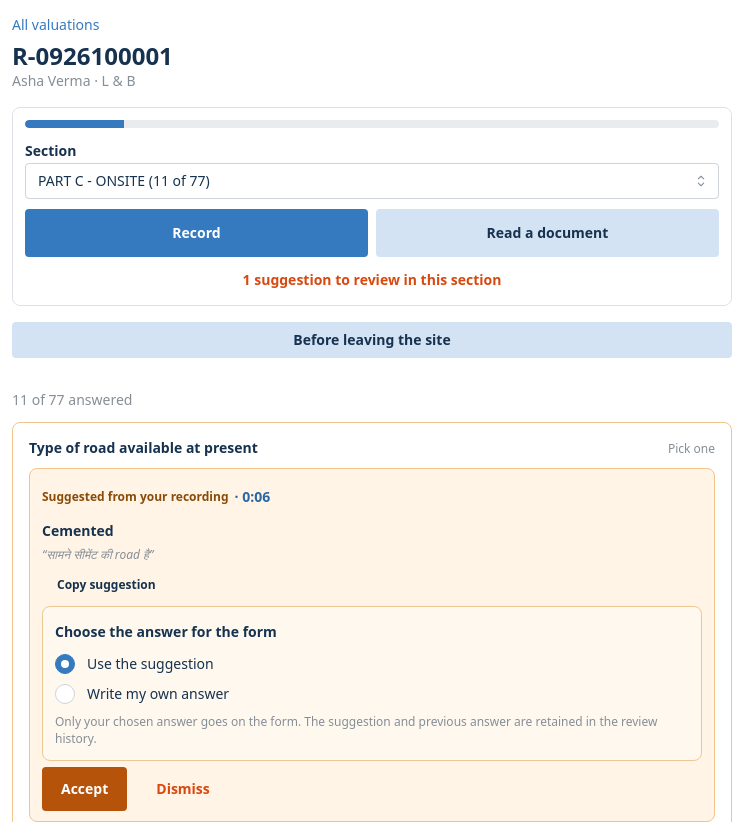
it: the phone form › copies the suggestion without changing the form
The image size is (749, 822).
Click the button "Copy suggestion". click: (106, 585)
box: x1=42 y1=570 x2=171 y2=600
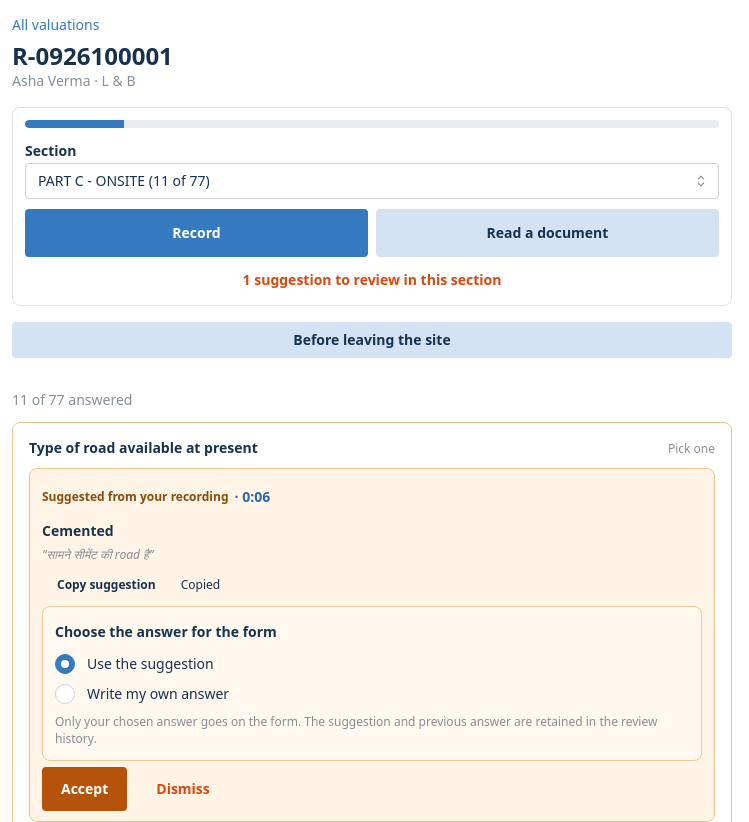
Result: the text "Copied" is shown at x1=181 y1=577 x2=220 y2=594
